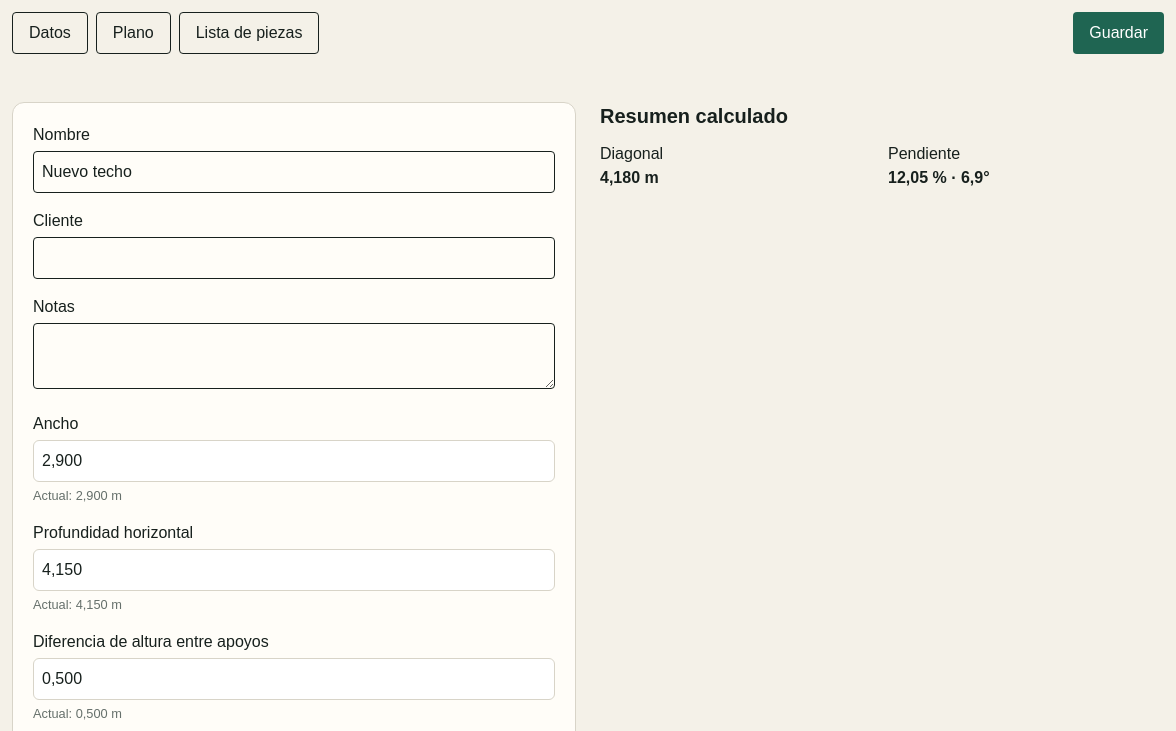
RoofEditor › blocks a depth and height combination whose beam exceeds 4.50 m
Step 1. Replace the text in the field labelled "Profundidad horizontal Actual: 4,150 m" with "4,500" → (294, 570), box top-left (33, 549), bottom-right (555, 591)
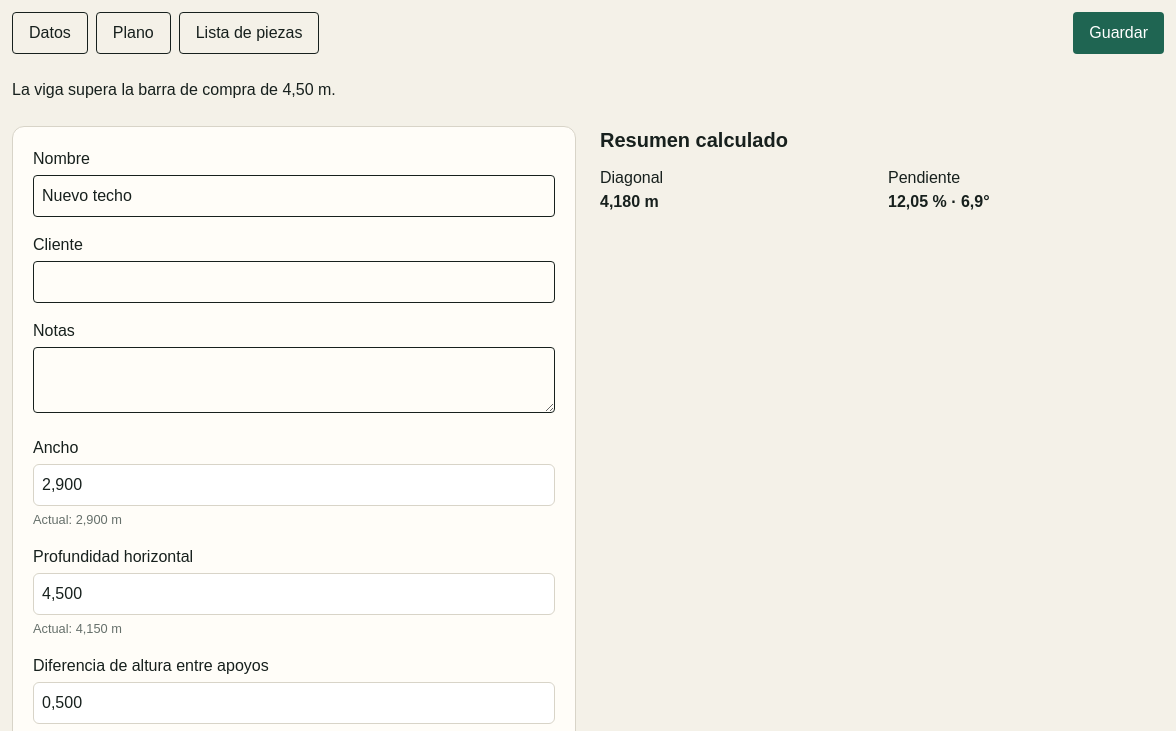
Expected: the text "La viga supera la barra de compra de 4,50 m." is shown, top-left (12, 81), bottom-right (336, 98)
